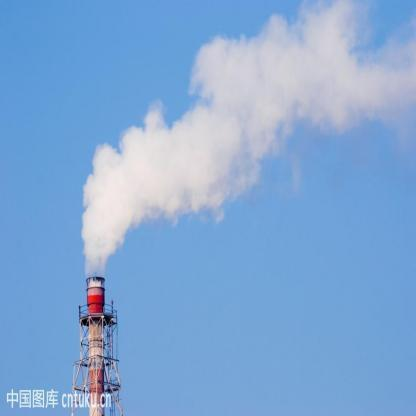smoke: (192, 50, 350, 127), (132, 128, 240, 197), (99, 154, 183, 210), (84, 182, 113, 245)
